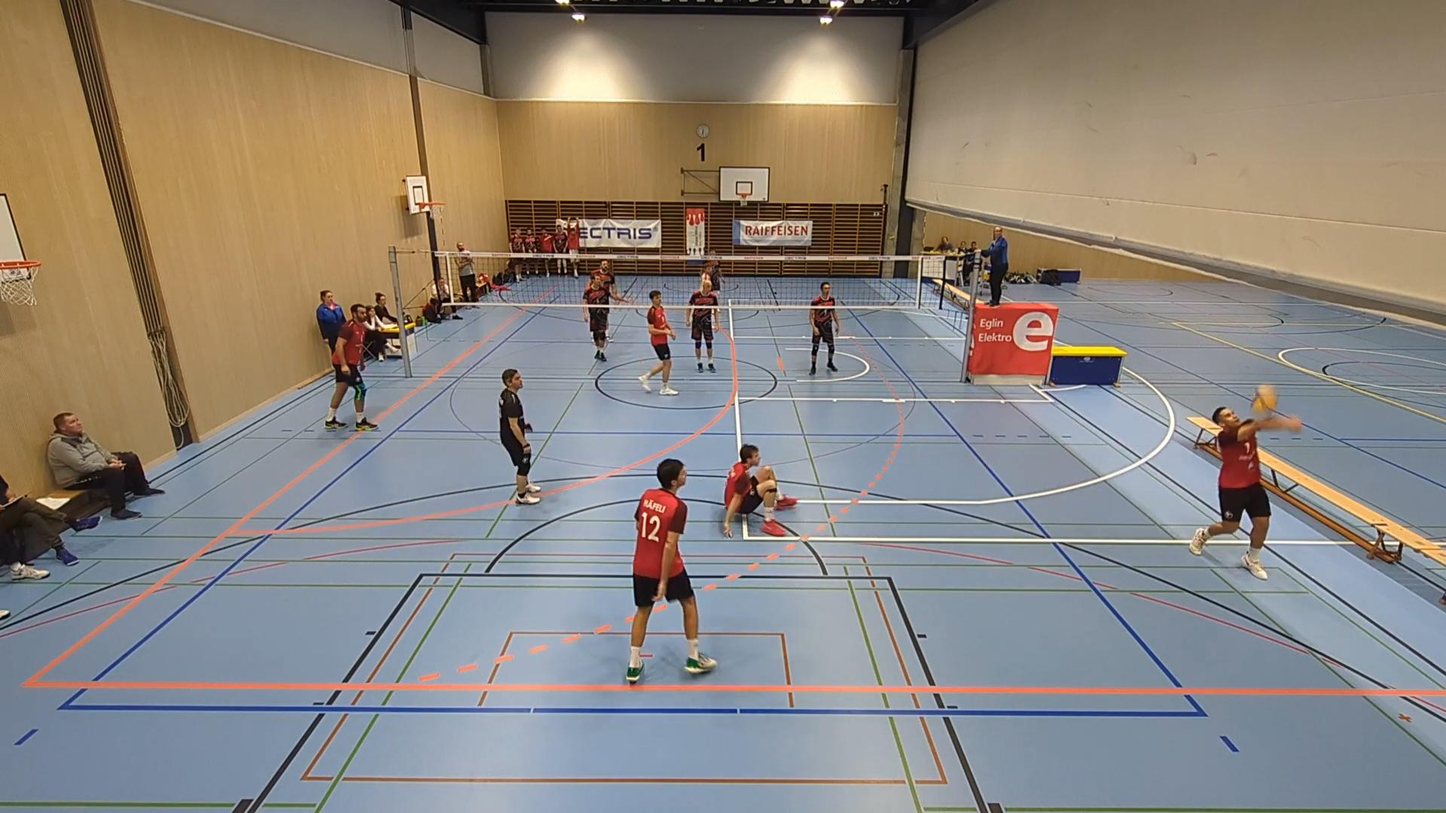difesa: (1186, 408, 1308, 574)
